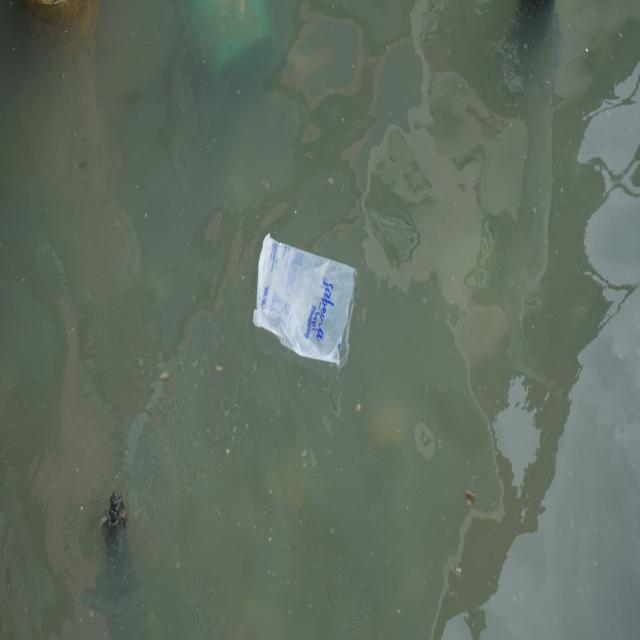Bungkus Makanan: (252, 232, 361, 375)
